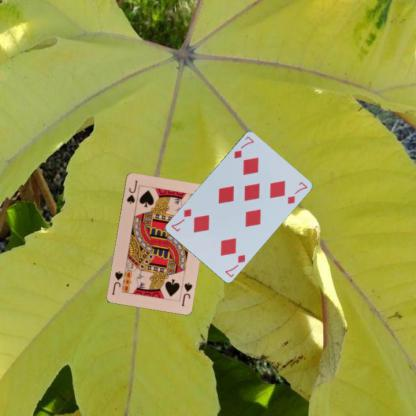7d: (222, 251, 247, 278), (231, 133, 255, 159)
Js: (178, 280, 194, 307), (124, 178, 139, 204)
